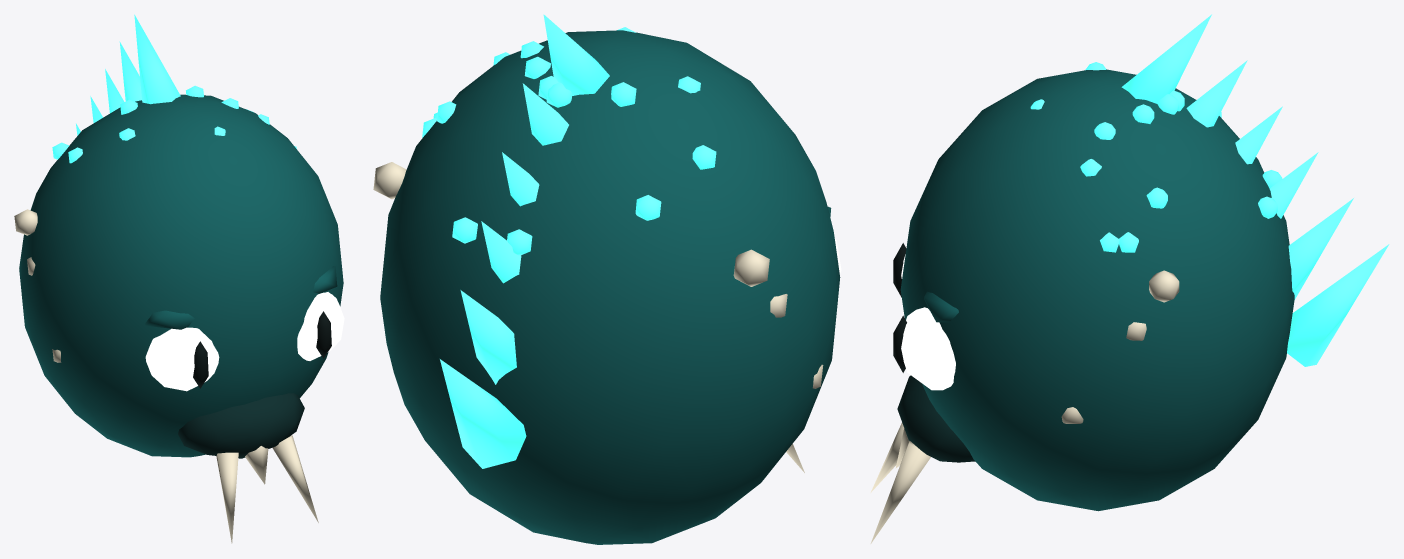
The model's file is boss_kraken_head.glb.
3 views of the same model, side by side, from view 1: azimuth 30°, elevation 25°; view 2: azimuth 150°, elevation 25°; view 3: azimuth 270°, elevation 25° (orthographic). The views are drawn at different scales.
Visible parts, largest first — view 1: Icosphere; view 2: Icosphere; view 3: Icosphere.
Part boxes in pixels (bbox=[...]): Icosphere: bbox=[14, 14, 344, 543]; Icosphere: bbox=[373, 14, 841, 544]; Icosphere: bbox=[870, 14, 1389, 543].
Size of the model in its own units: 1.56 by 2.2 by 2.05.
